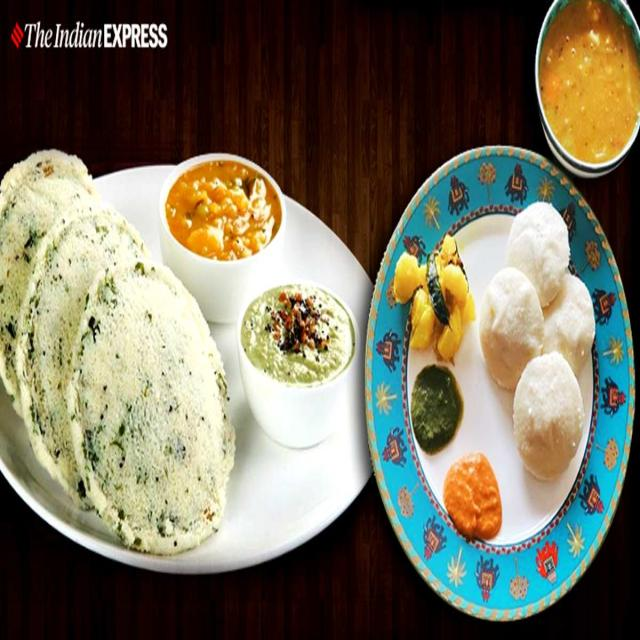chutney: (241, 284, 360, 381)
idli: (23, 198, 182, 504), (72, 254, 234, 546), (0, 147, 116, 419)
